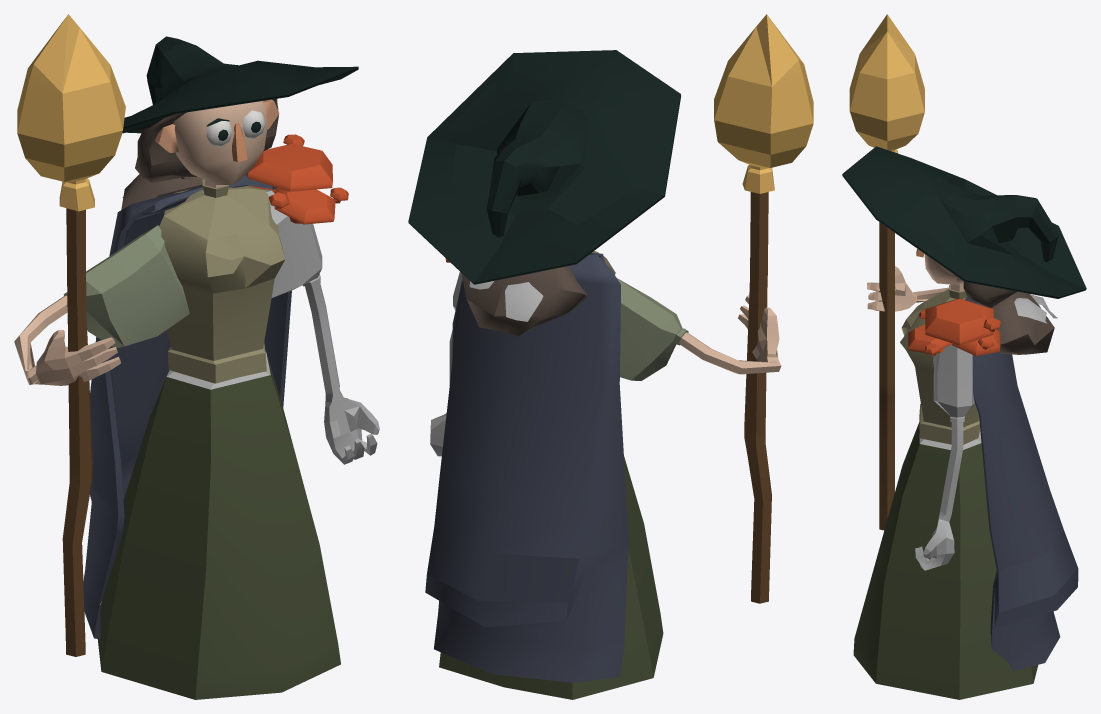
File: TEMPCharacterModel.fbx
3 renders of one model, left to right at view 1: azimuth 30°, elevation 25°; view 2: azimuth 150°, elevation 25°; view 3: azimuth 270°, elevation 25°, orthographic. The views are drawn at different scales.
Visible parts, largest first — view 1: pCylinder37; view 2: pCylinder37; view 3: pCylinder37.
Part boxes in pixels (x1,y1,x2,y2): pCylinder37: (14, 14, 379, 699); pCylinder37: (408, 14, 813, 699); pCylinder37: (842, 14, 1086, 699).
Bounding box in the file's own units: 6.86 × 12.29 × 4.69.
